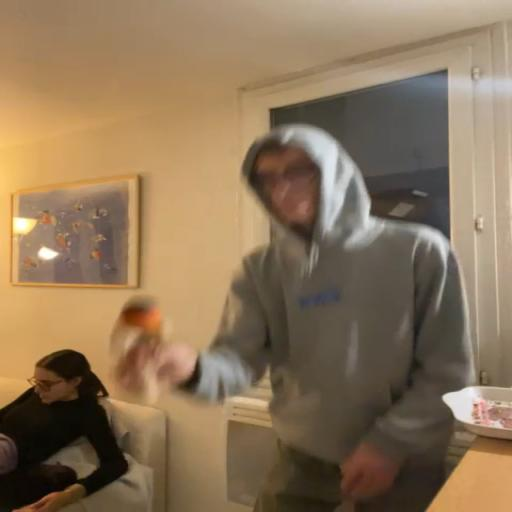kendama_ball: (120, 294, 162, 336)
